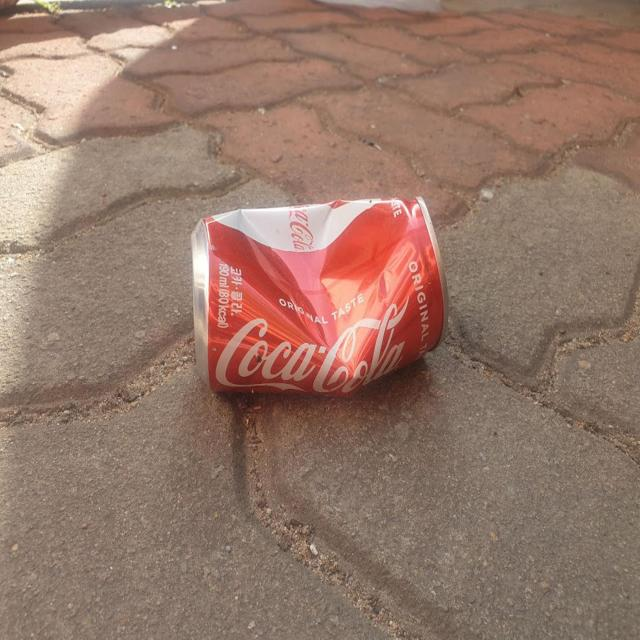can: (191, 197, 449, 397)
